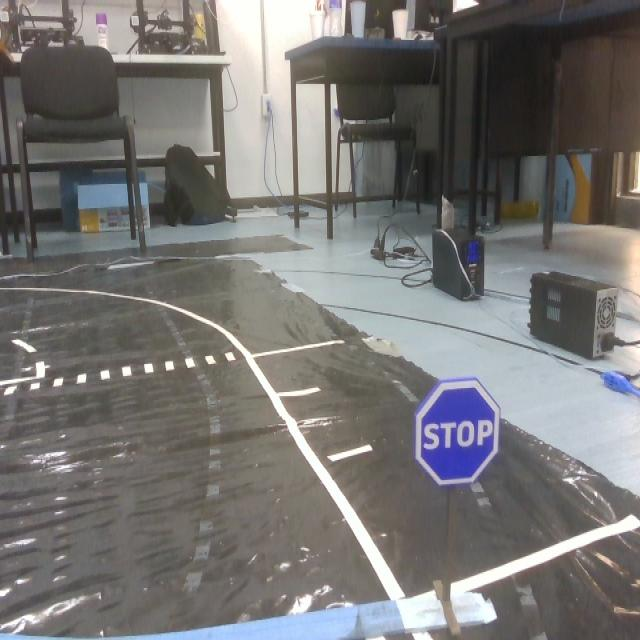no_entry: (422, 378, 500, 493)
